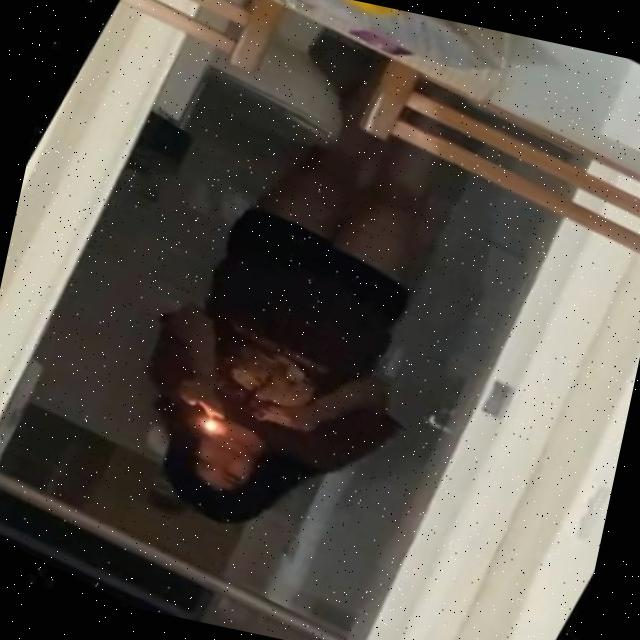fire: (187, 409, 225, 440)
